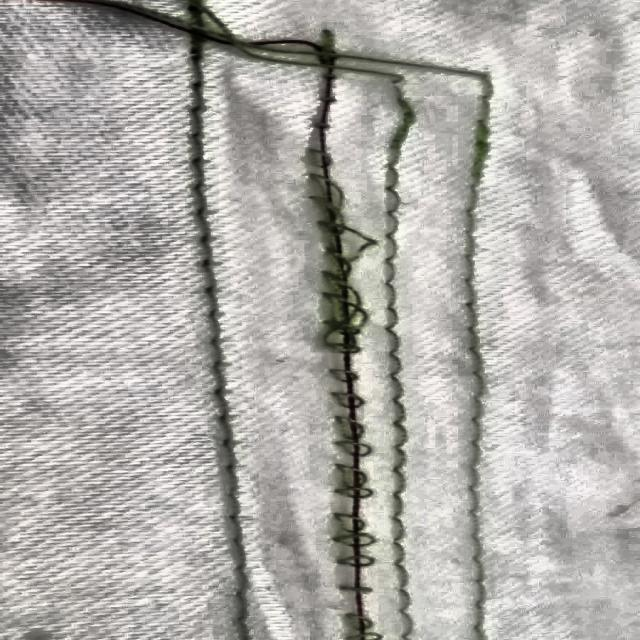gray stitch: (282, 171, 383, 370), (319, 396, 392, 624)
